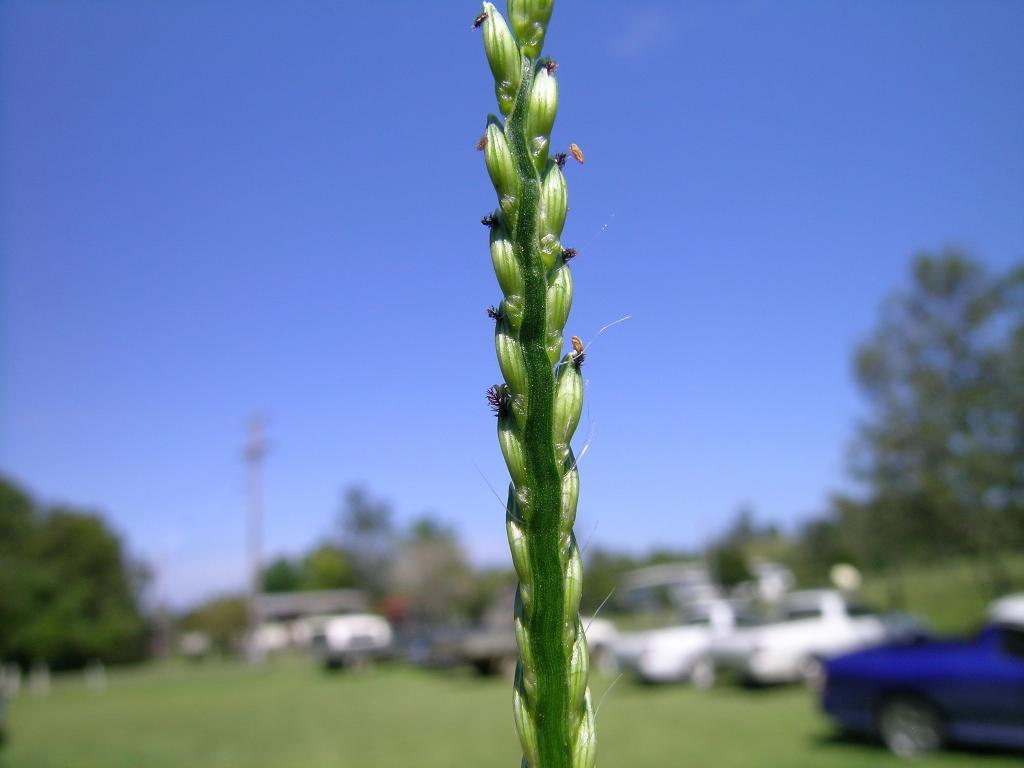Car: (318, 588, 1023, 755)
